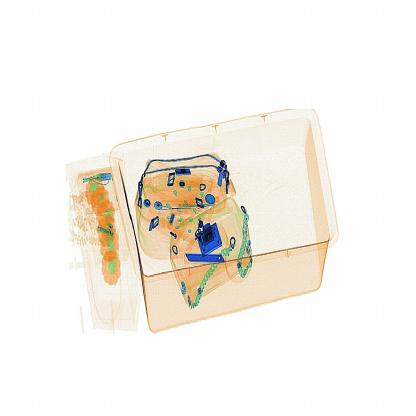pliers: (184, 247, 230, 271)
